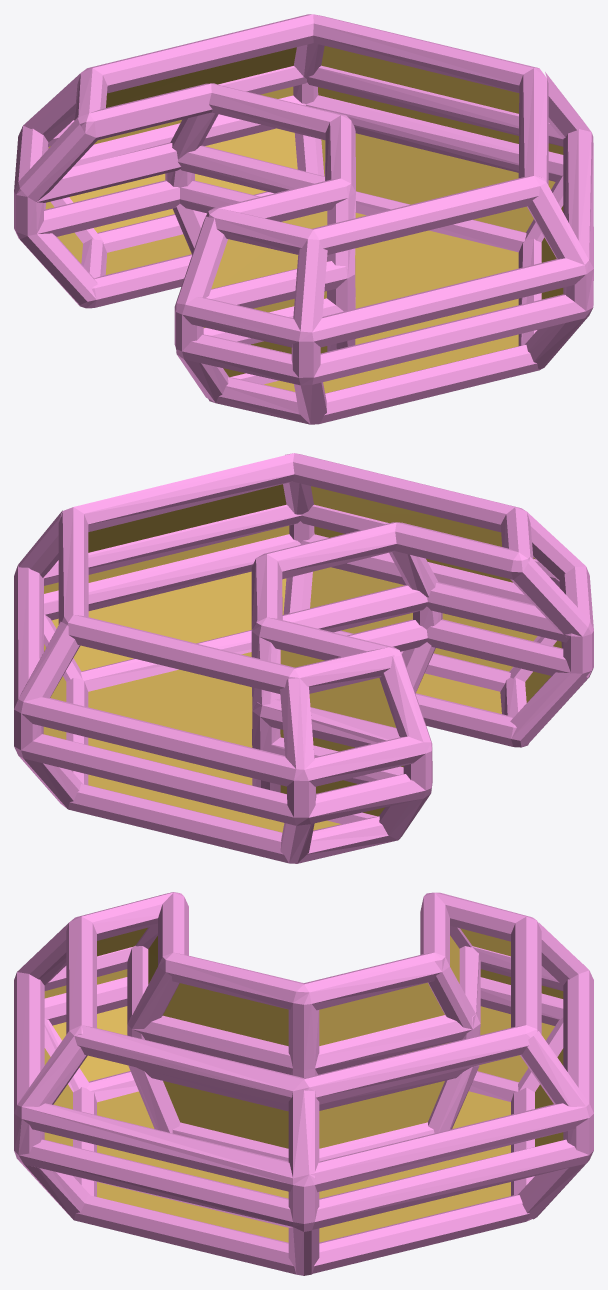
The model's file is ship.glb.
3 renders of one model, top to bottom at view 1: azimuth 30°, elevation 25°; view 2: azimuth 150°, elevation 25°; view 3: azimuth 270°, elevation 25°, orthographic.
Visible parts, largest first — view 1: Loft-2, Loft-1; view 2: Loft-2, Loft-1; view 3: Loft-2, Loft-1.
Boxes of the visible parts, left/top/right/bottom form: Loft-2: left=14, top=14, right=593, bottom=424; Loft-1: left=45, top=46, right=563, bottom=393; Loft-2: left=14, top=453, right=593, bottom=863; Loft-1: left=43, top=484, right=561, bottom=832; Loft-2: left=14, top=892, right=593, bottom=1275; Loft-1: left=44, top=927, right=563, bottom=1242.
Size of the model in its own units: 4.49 by 1.69 by 4.52.
